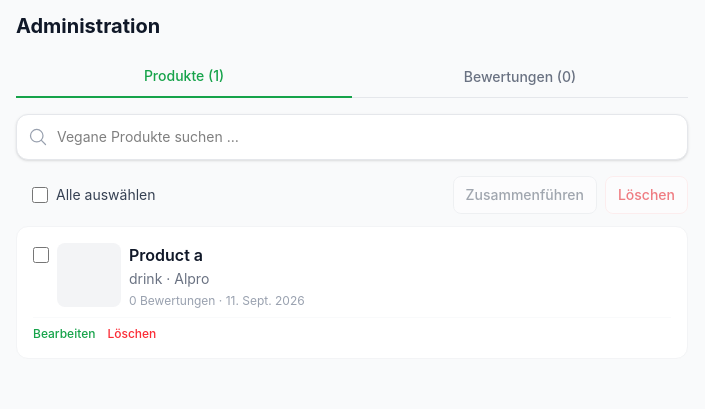
Test: AdminView › given deleting a product fails › shows the error on the page and keeps the product
Expected: the checkbox labelled "Alle auswählen" is shown, [32,187,48,203]
Click the button with aria-label "Produkt löschen".
click(132, 334)  # box [107,326,156,342]
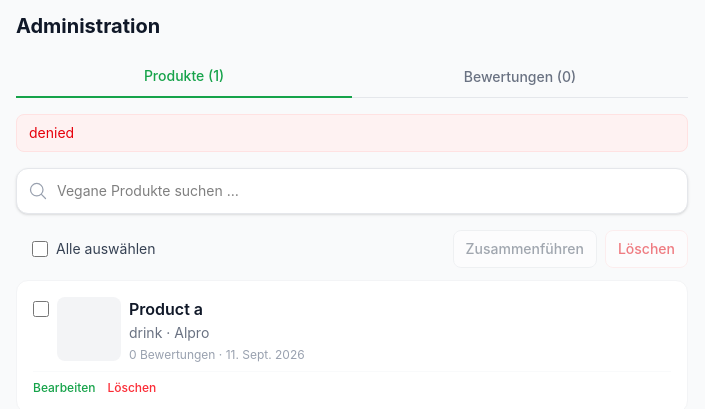
Expected: the text "Produkte (1)" is shown, [16,56,352,98]
Now the message "denied" is shown, box [16,114,688,152]
